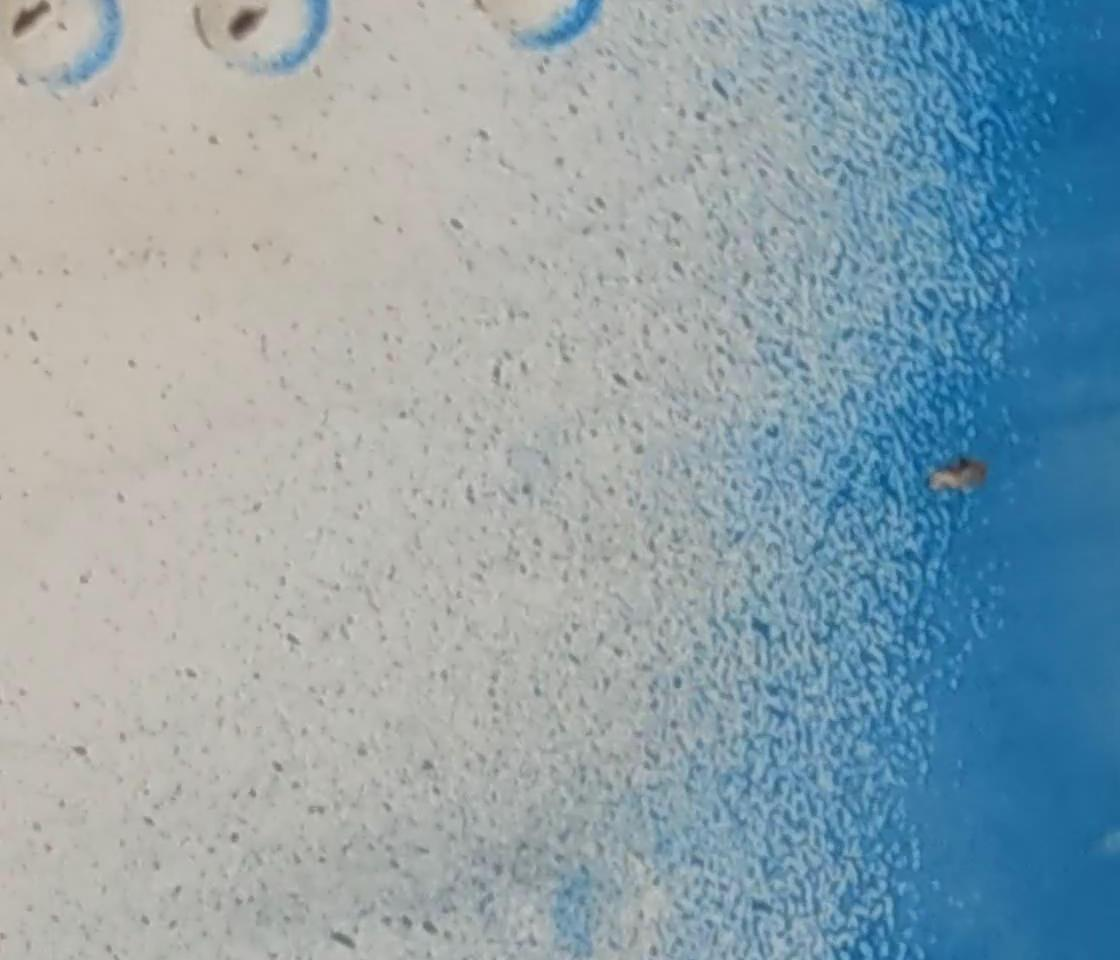paint_peel: (919, 456, 1000, 502)
